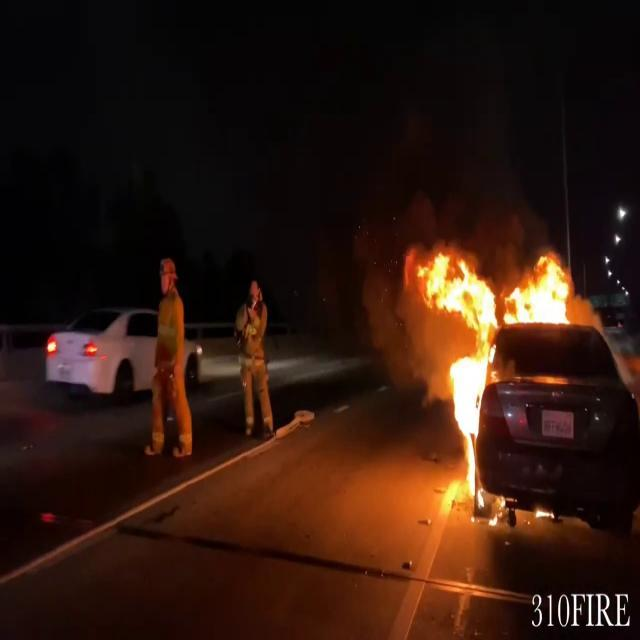Fire: (410, 247, 504, 508), (506, 251, 578, 328)
Smoke: (338, 190, 439, 372)
